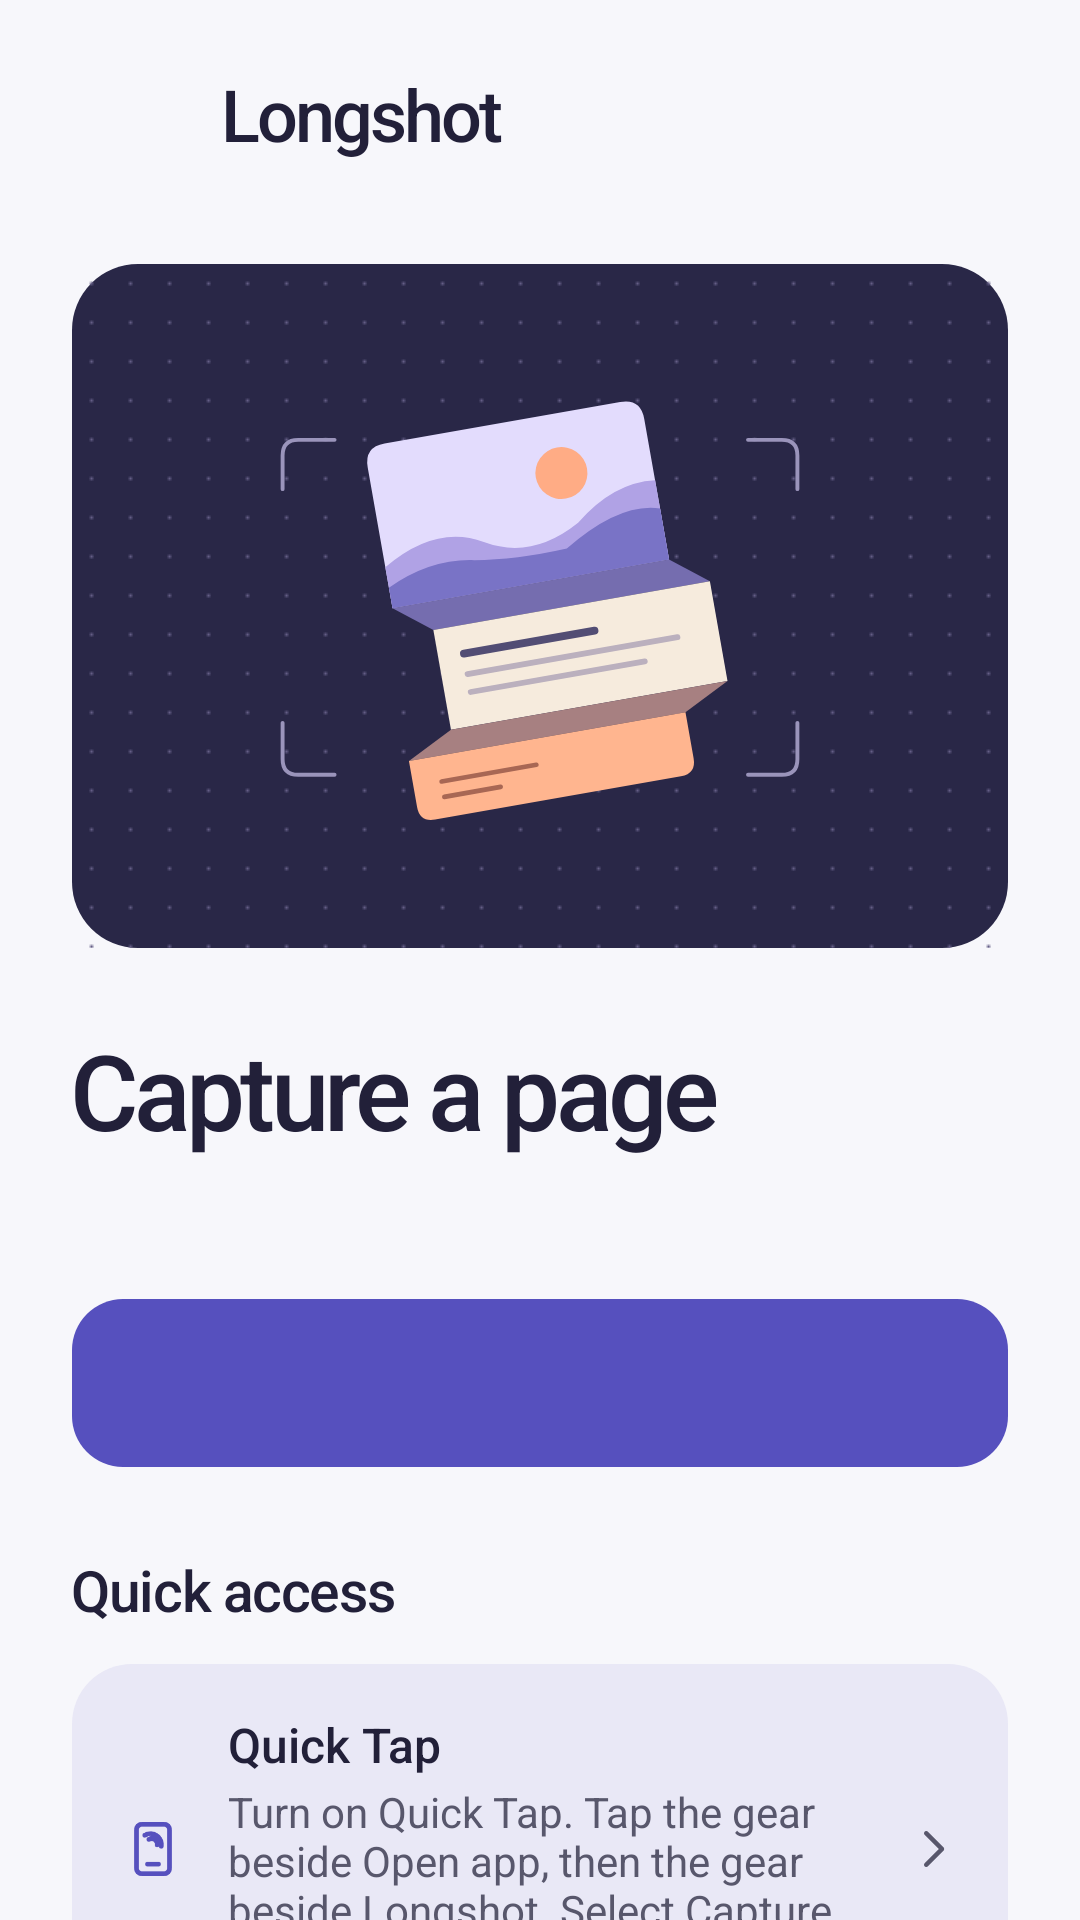

Icons on this 1080 × 1920 Android screen, each with the point to tap as [x,y]:
chevron: [934,1849]
